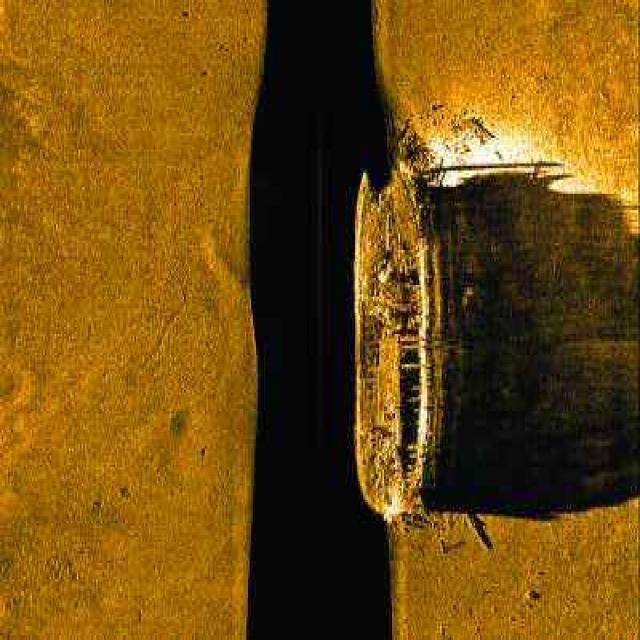ship: (333, 138, 448, 544)
